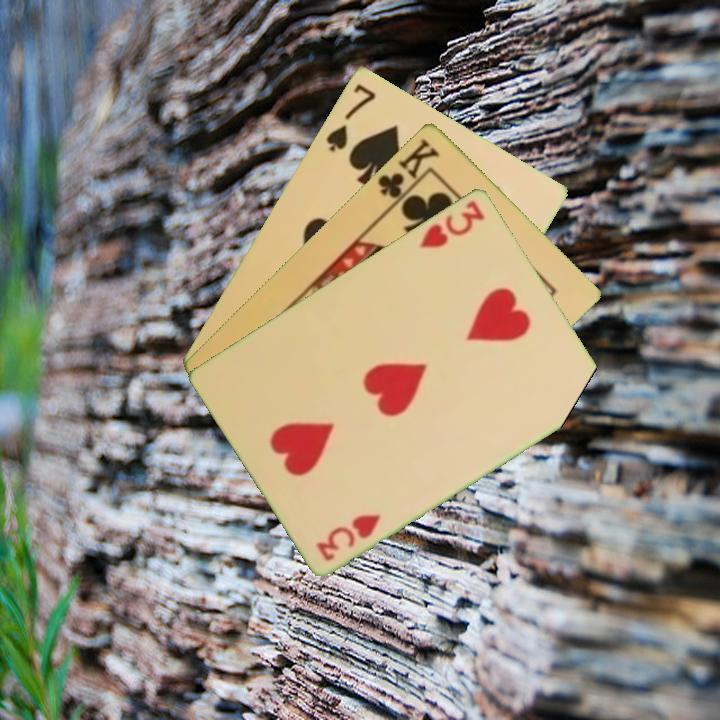3h: (416, 196, 487, 251), (312, 510, 384, 564)
7s: (322, 80, 379, 154)
Kc: (374, 134, 443, 210)
